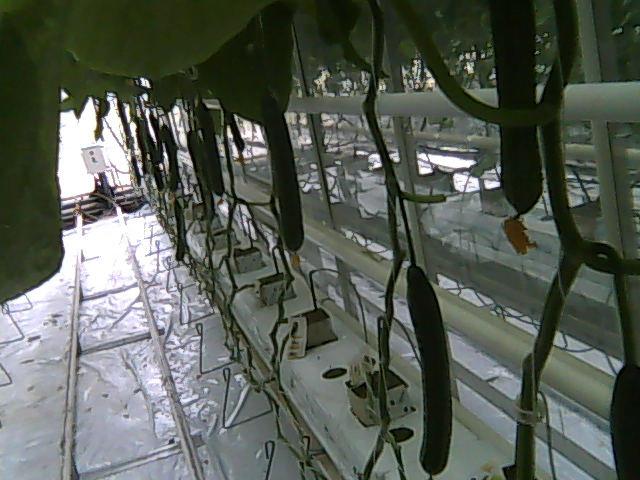concombre: (486, 1, 546, 255), (404, 258, 454, 480), (257, 91, 307, 266)
